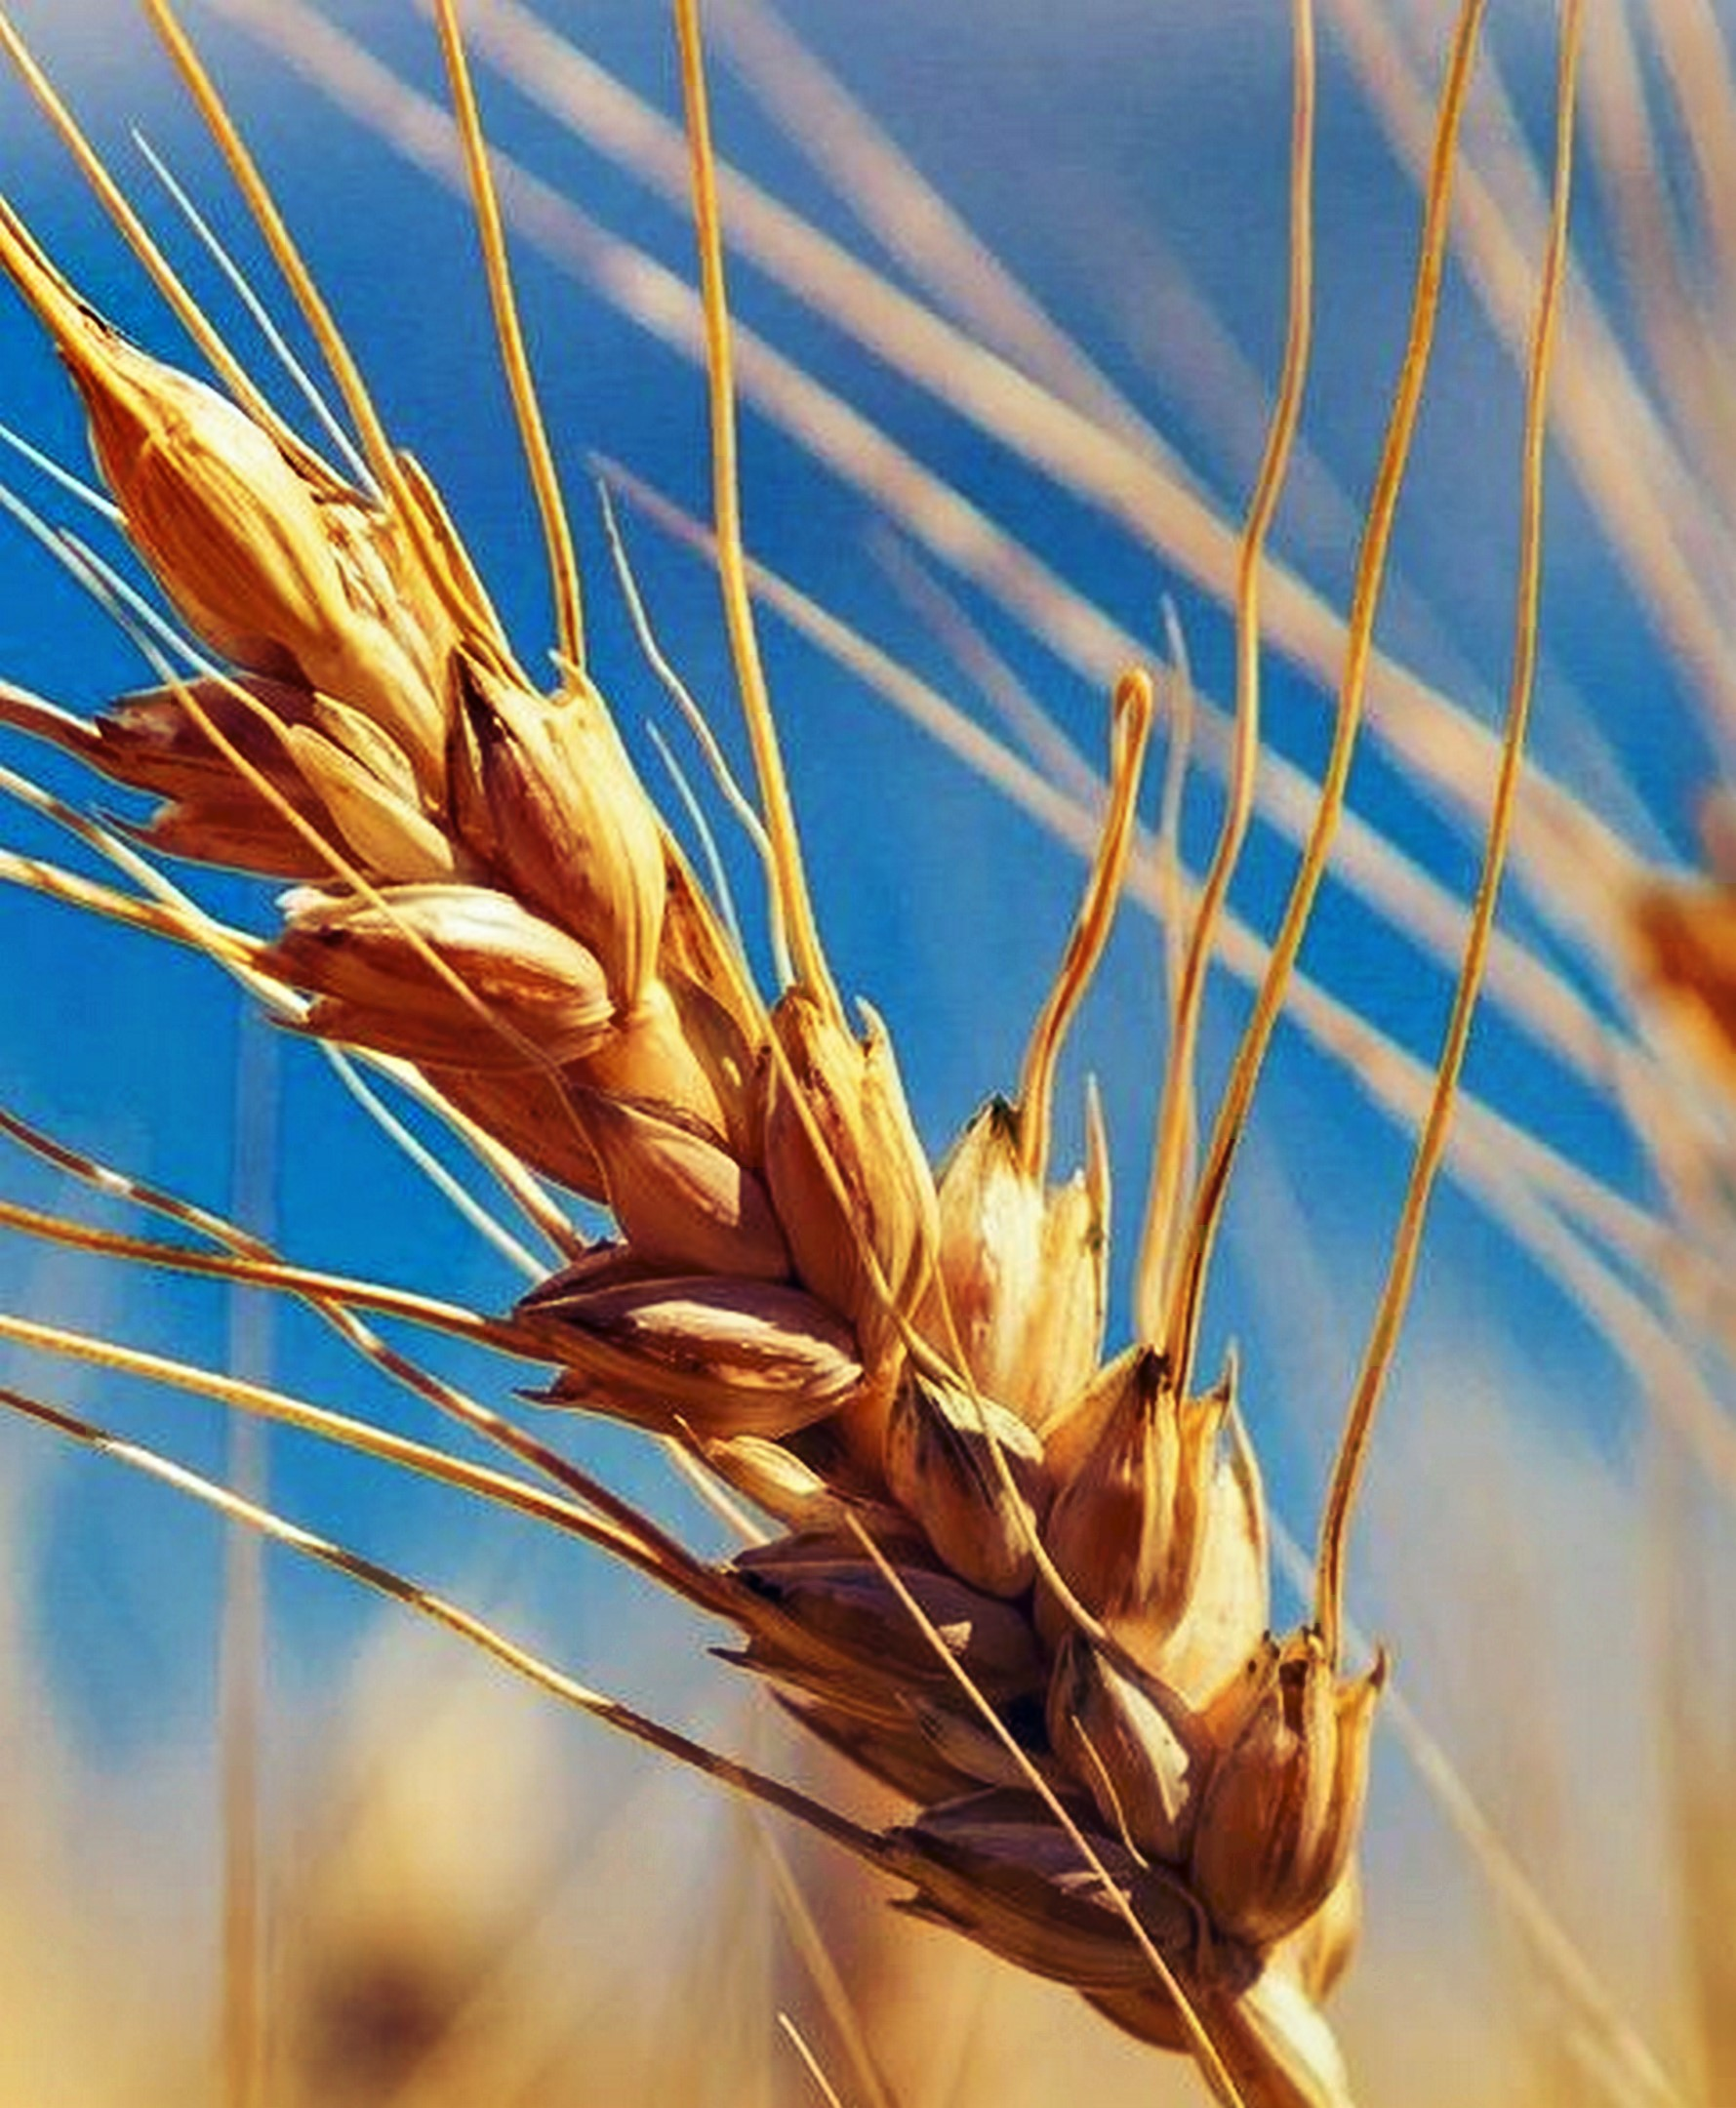Healthy Wheat: (77, 387, 1449, 1970)
